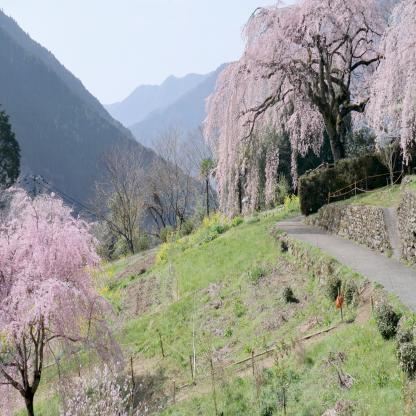ShidareZakura: (202, 0, 383, 226), (1, 184, 124, 416), (366, 0, 416, 167)
